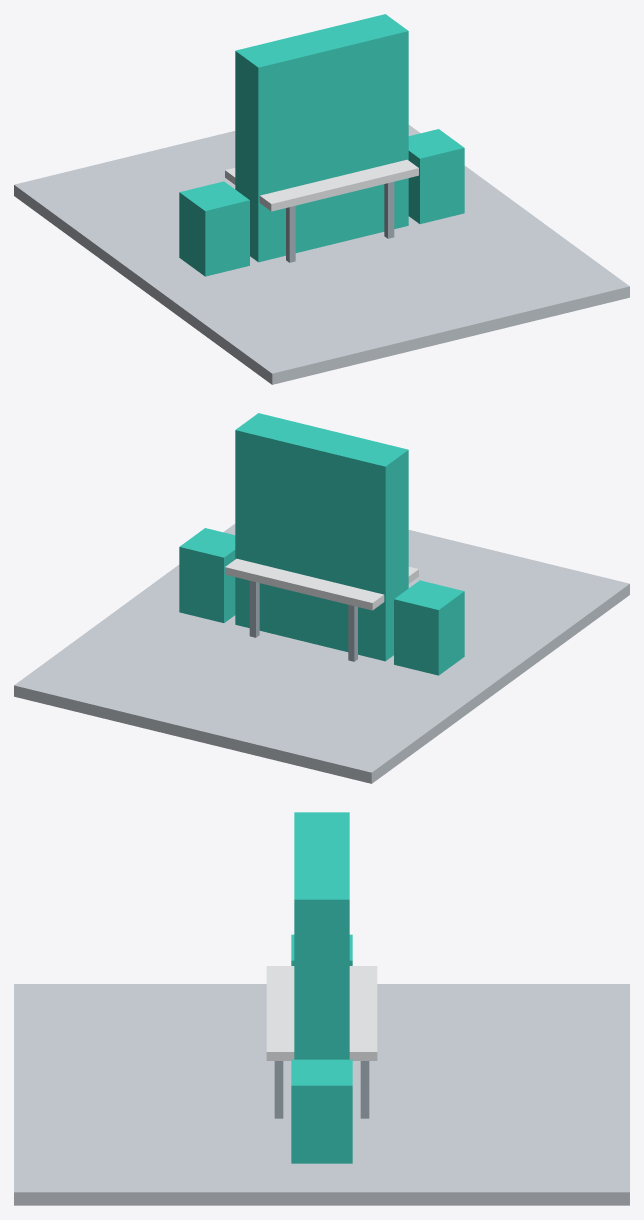
3 views of the same model, one above another, from view 1: azimuth 30°, elevation 25°; view 2: azimuth 150°, elevation 25°; view 3: azimuth 270°, elevation 25° (orthographic). The views are drawn at different scales.
Visible parts, largest first — view 1: Exhibition Booth Concept; view 2: Exhibition Booth Concept; view 3: Exhibition Booth Concept.
Boxes of the visible parts, box(x1,y1,x2,y2) form: Exhibition Booth Concept: box(14, 14, 629, 384); Exhibition Booth Concept: box(14, 413, 629, 783); Exhibition Booth Concept: box(14, 812, 629, 1205).
Size of the model in its own units: 4 by 2.2 by 5.
